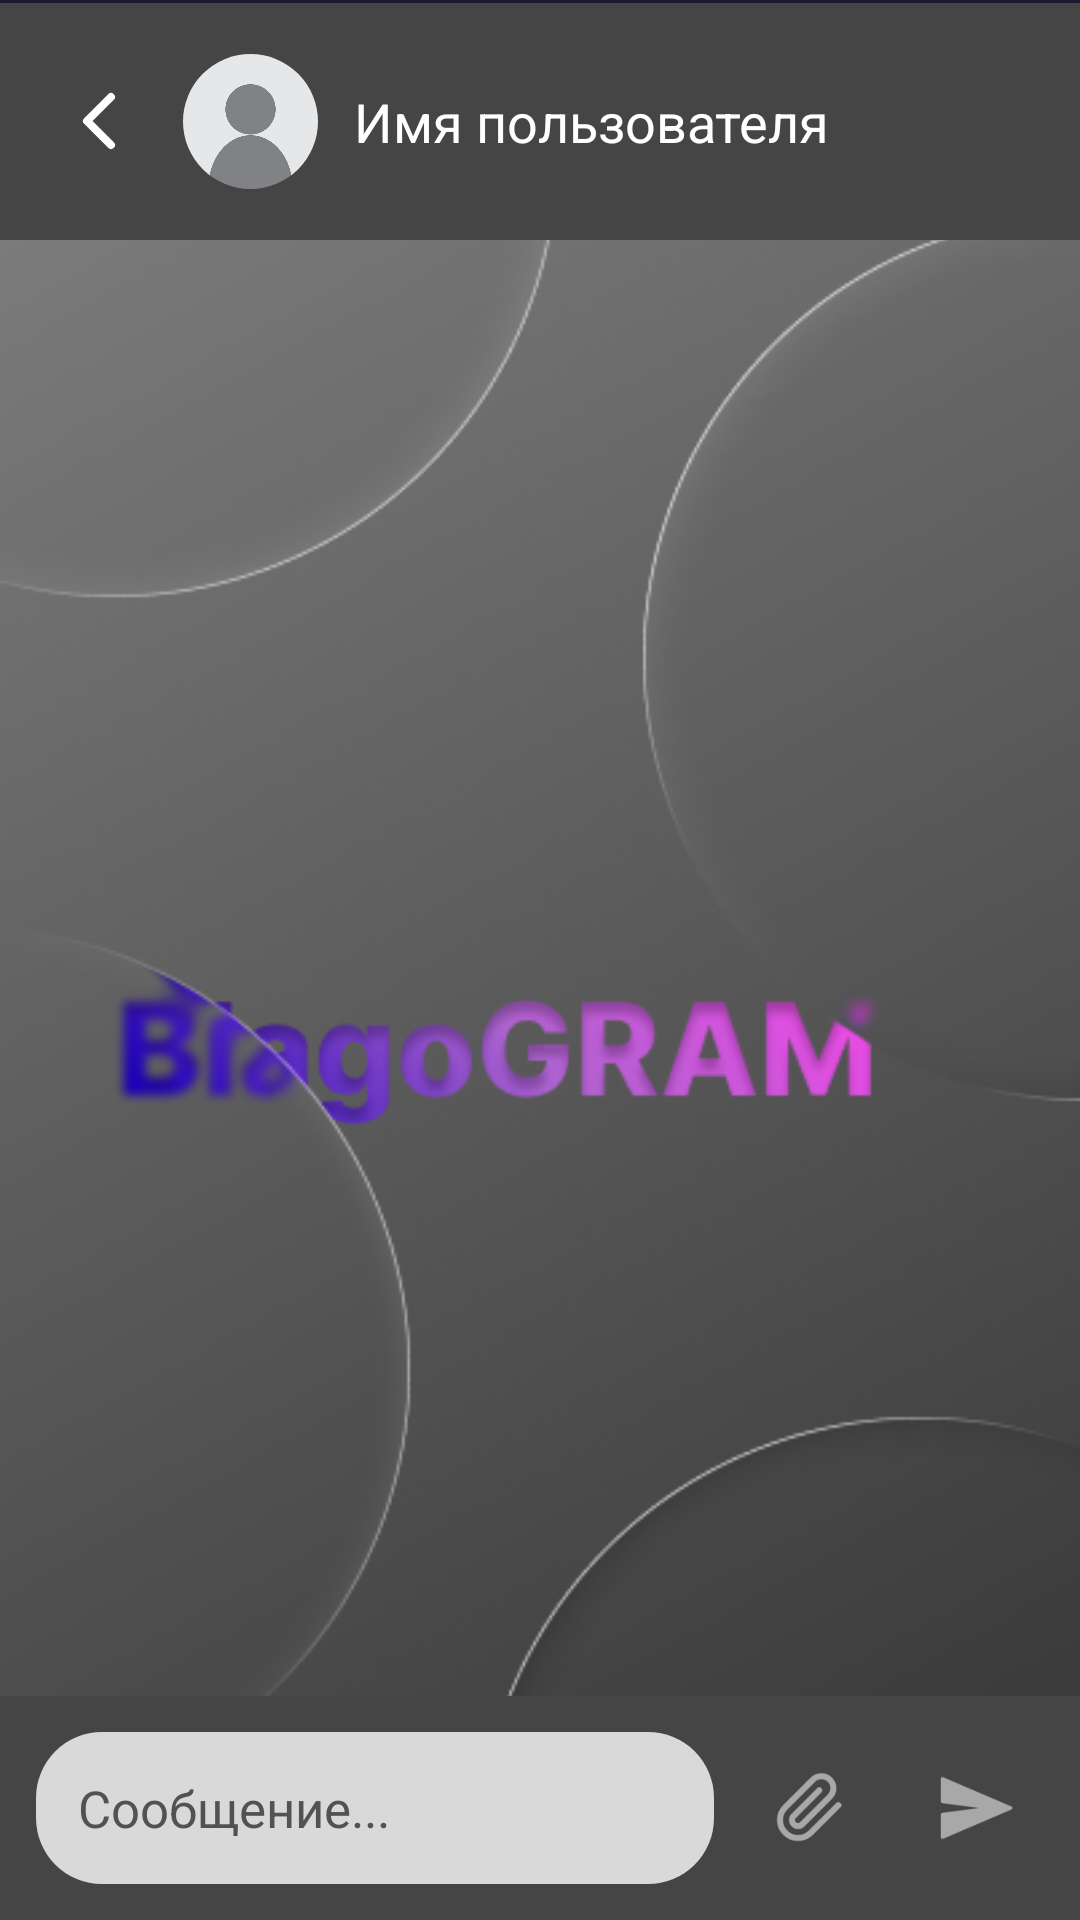

Screen size 1080px×1920px. Icon name, then its box in pixels as [left=x1, top=y1, right=x2, bottom=y2]:
back: [left=83, top=92, right=115, bottom=149]
send: [left=941, top=1777, right=1013, bottom=1839]
sendfile: [left=777, top=1773, right=842, bottom=1841]
